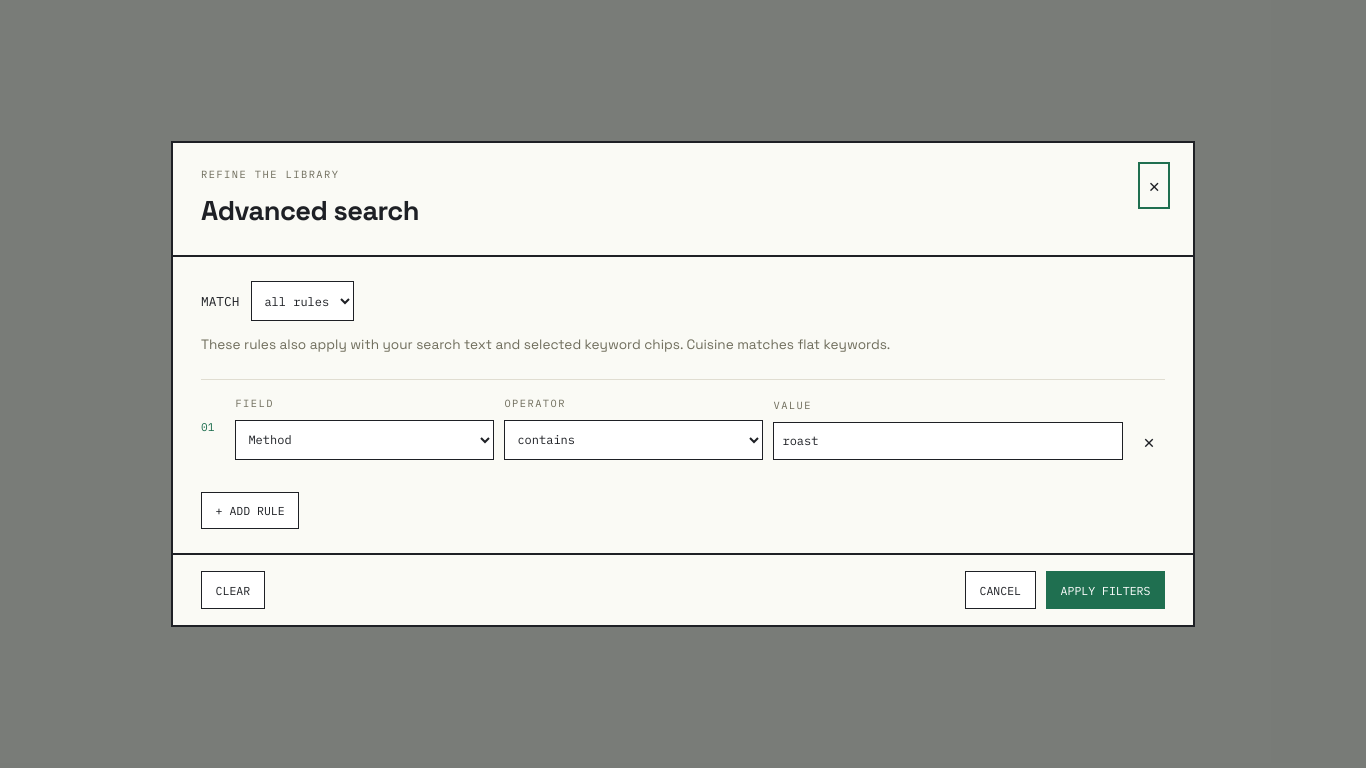
advanced search draft › switches fields and operators without retaining incompatible values
This screenshot has width=1366, height=768.
Select "Recipe image" in the dropdown named "Field for rule 1": (365, 440) top-left (235, 420), bottom-right (494, 460)
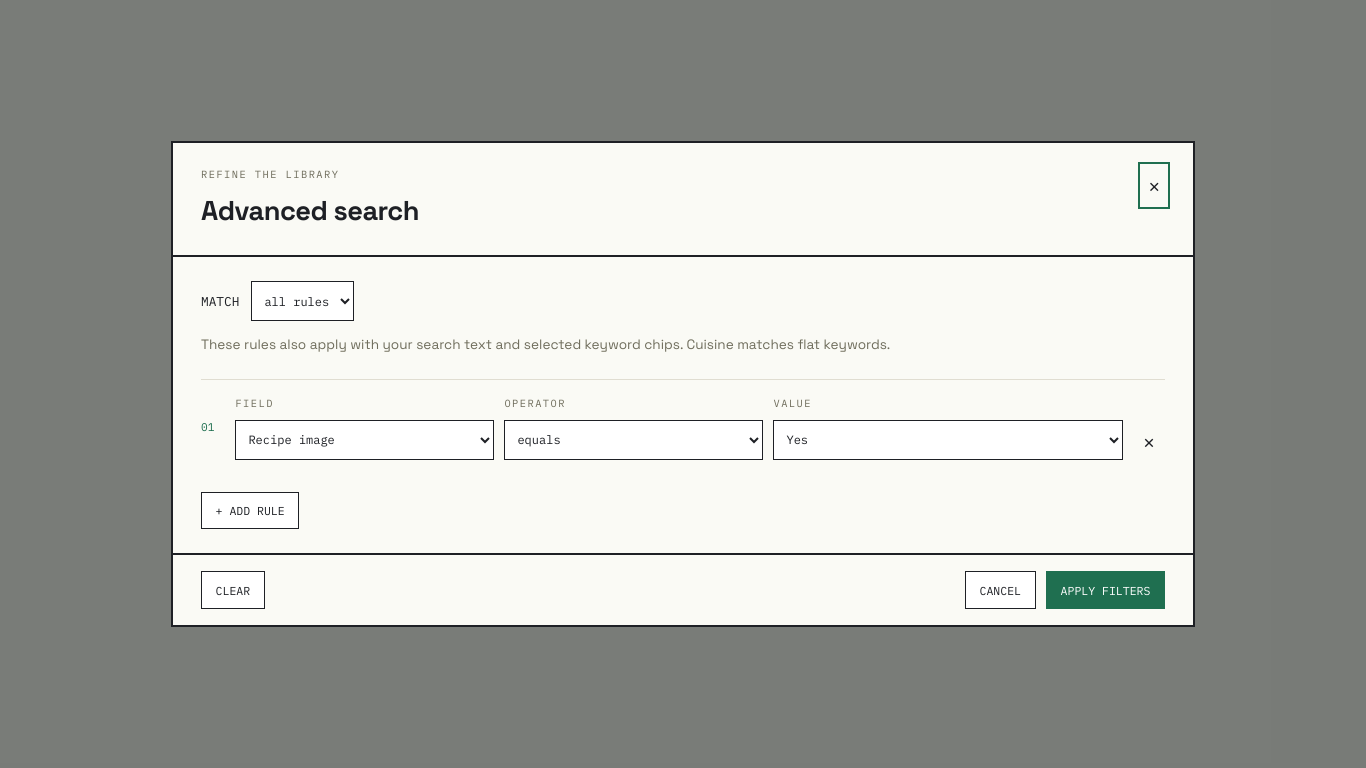
Result: the field is gone
Result: the dropdown named "Value for rule 1" shows "Yes" at top-left (773, 420), bottom-right (1123, 460)
Select "Description" in the dropdown named "Field for rule 1": (365, 440) top-left (235, 420), bottom-right (494, 460)
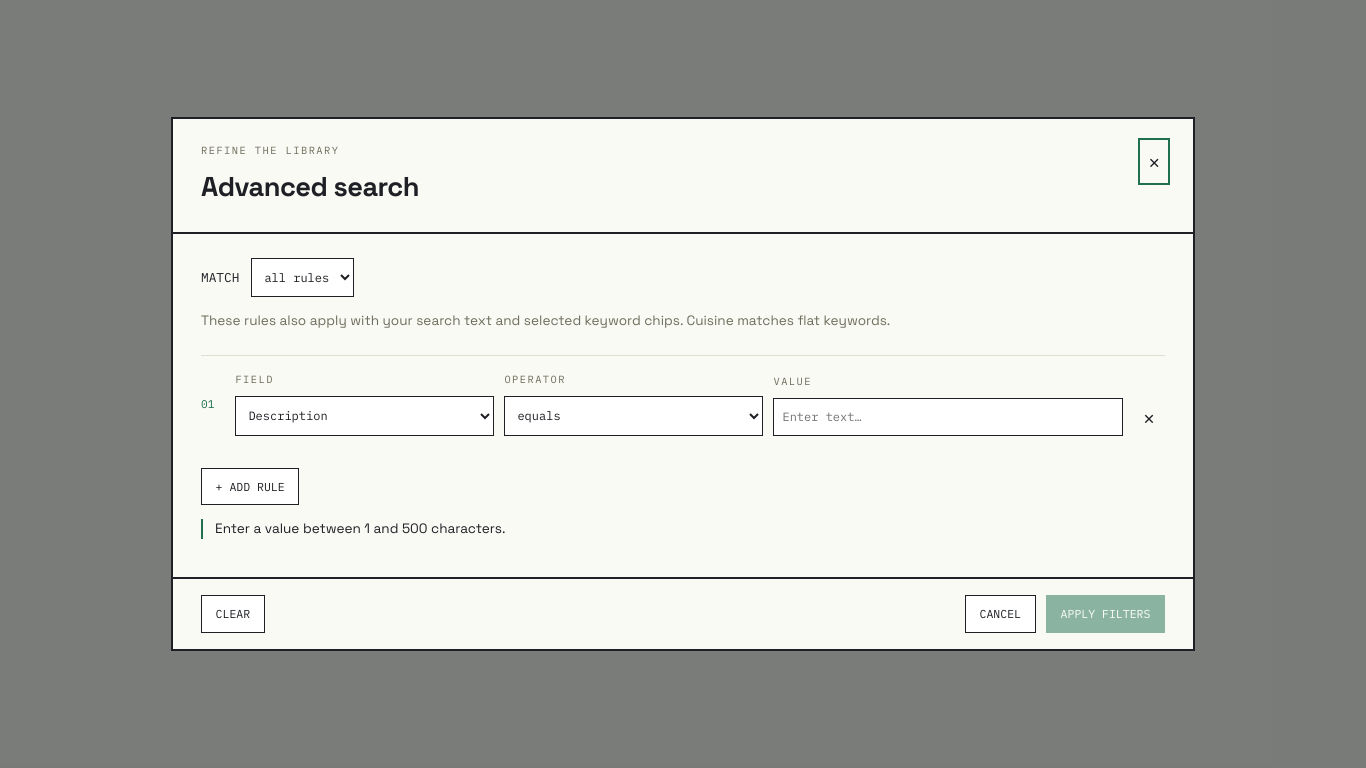
Result: the button with class "apply" is disabled at top-left (1046, 595), bottom-right (1165, 633)
Select "is empty" in the dropdown named "Operator for rule 1": (634, 416) top-left (504, 396), bottom-right (763, 436)
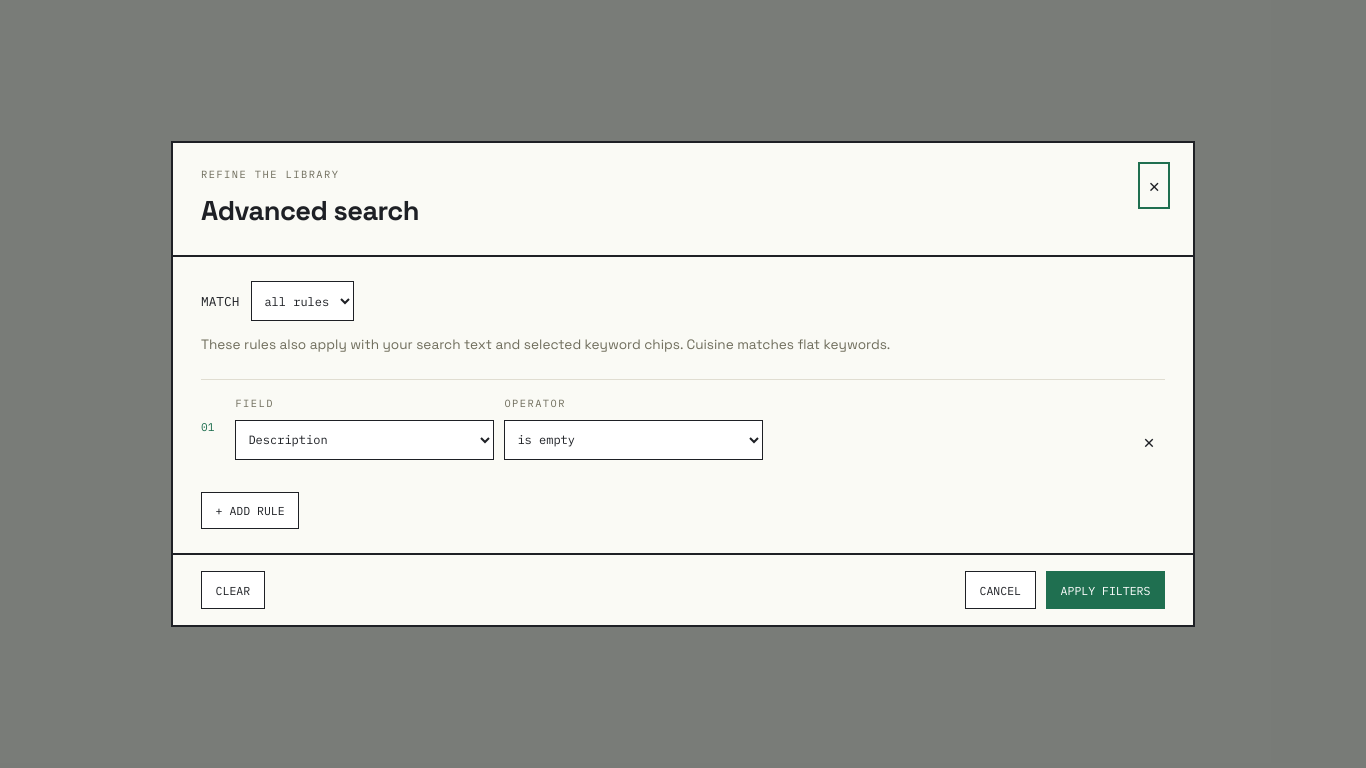
Result: the field is gone
Result: the button with class "apply" is enabled at top-left (1046, 571), bottom-right (1165, 609)
